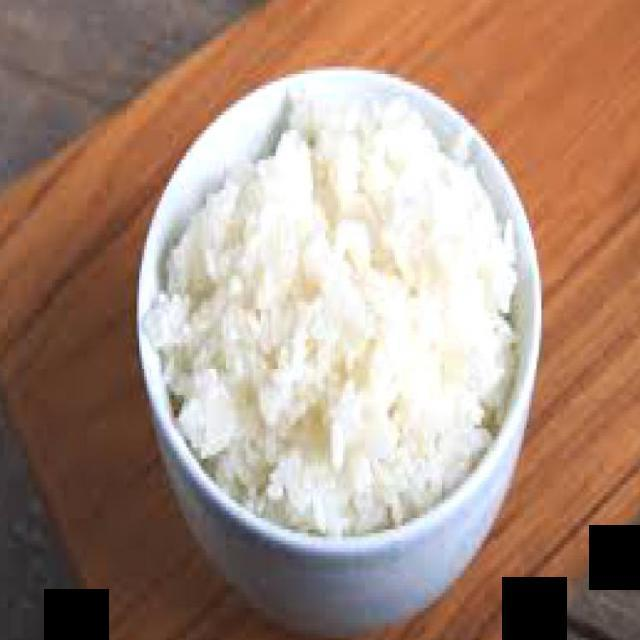Chicken -Chicken Inasal-: (149, 88, 519, 537)
